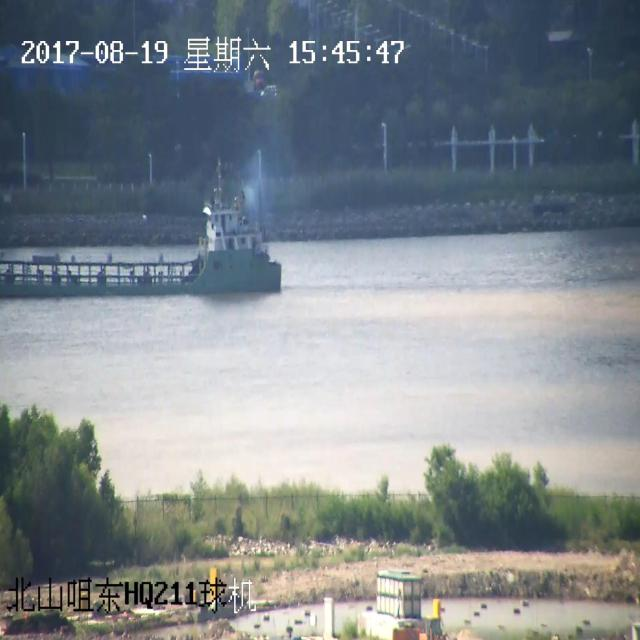houseboat: (4, 190, 297, 312)
